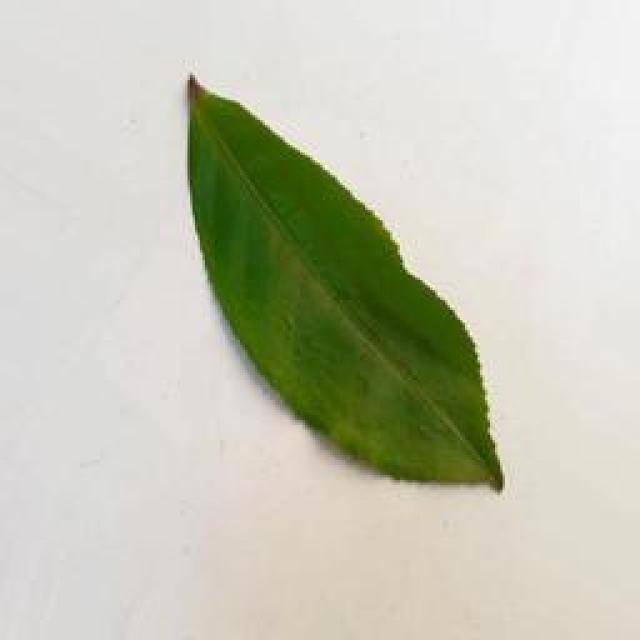Healthy: (176, 66, 507, 499)
